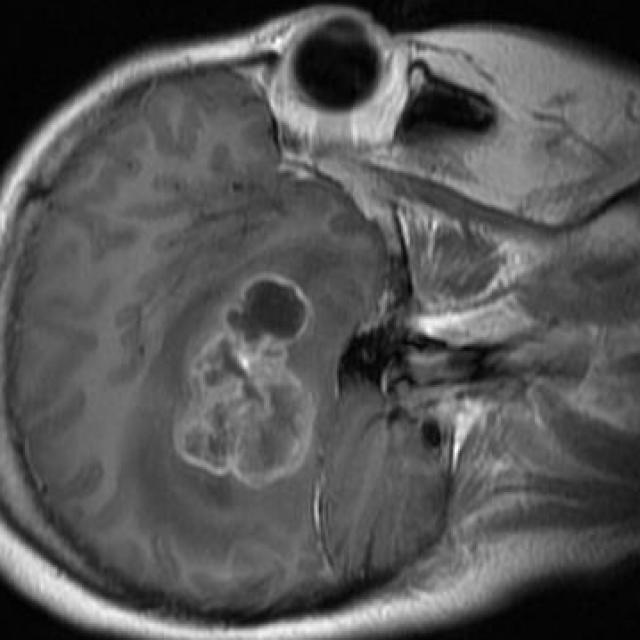glioma: (173, 273, 319, 492)
